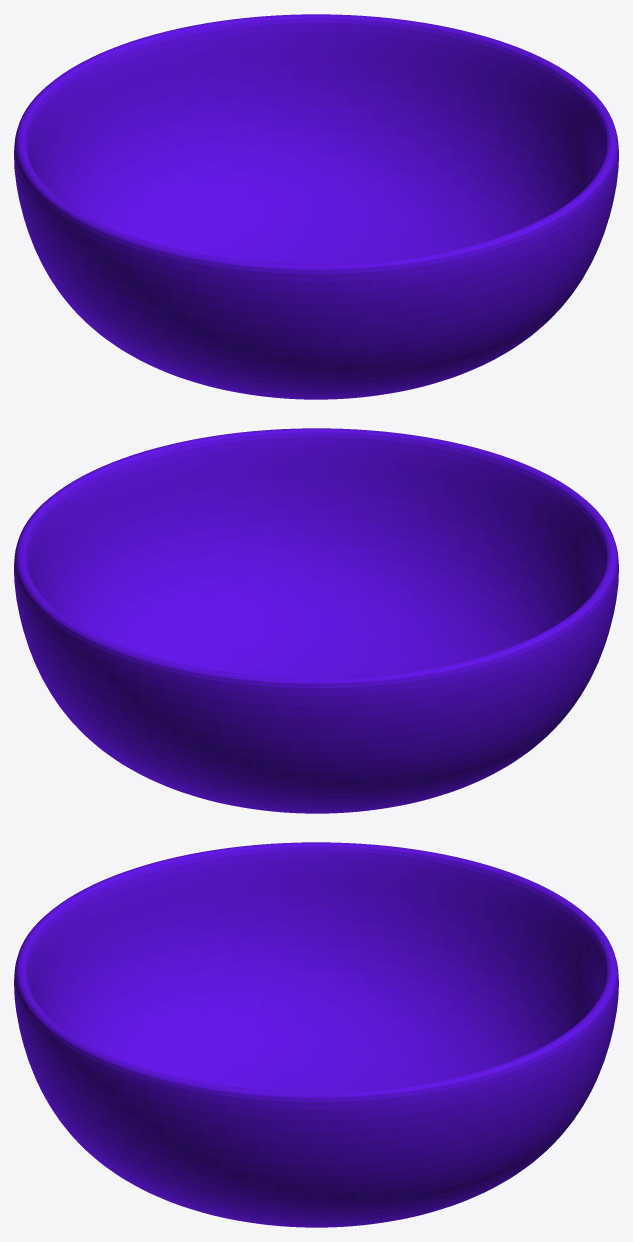
Rendered from bowl.fbx.
The picture shows the model from 3 angles, top to bottom: view 1: azimuth 30°, elevation 25°; view 2: azimuth 150°, elevation 25°; view 3: azimuth 270°, elevation 25°; orthographic projection.
Visible parts, largest first — view 1: Bowl; view 2: Bowl; view 3: Bowl.
Boxes of the visible parts, x1,y1,x2,y2 form: Bowl: (14, 14, 618, 399); Bowl: (14, 428, 618, 813); Bowl: (14, 842, 618, 1227).
Size of the model in its own units: 14.91 by 5.55 by 14.91.
